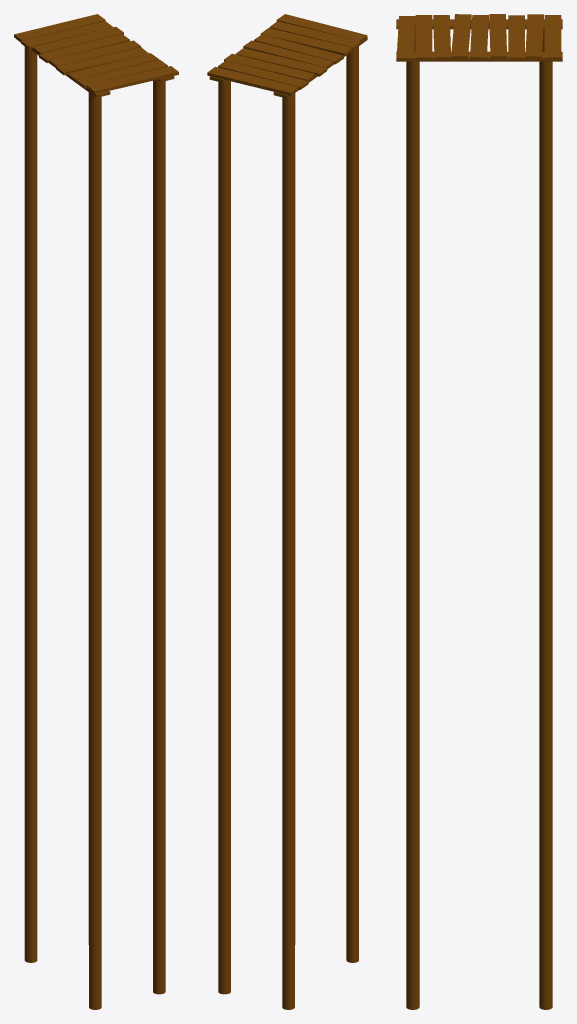
Rendered from houten brug 2.fbx.
3 views of the same model, side by side, from view 1: azimuth 30°, elevation 25°; view 2: azimuth 150°, elevation 25°; view 3: azimuth 270°, elevation 25° (orthographic). The views are drawn at different scales.
Visible parts, largest first — view 1: Cube; view 2: Cube; view 3: Cube.
Boxes of the visible parts, x1,y1,x2,y2 form: Cube: [14, 14, 178, 1009]; Cube: [207, 14, 367, 1009]; Cube: [396, 14, 562, 1009].
Size of the model in its own units: 3.15 by 31.67 by 5.
